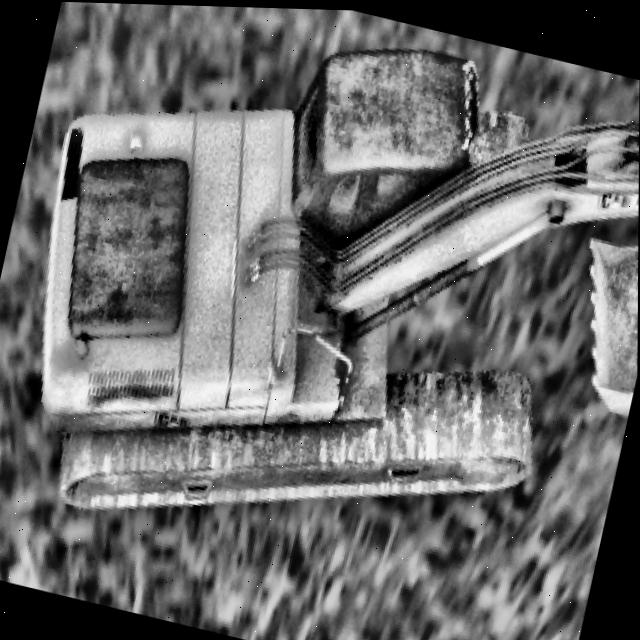excavator: (0, 0, 640, 623)
